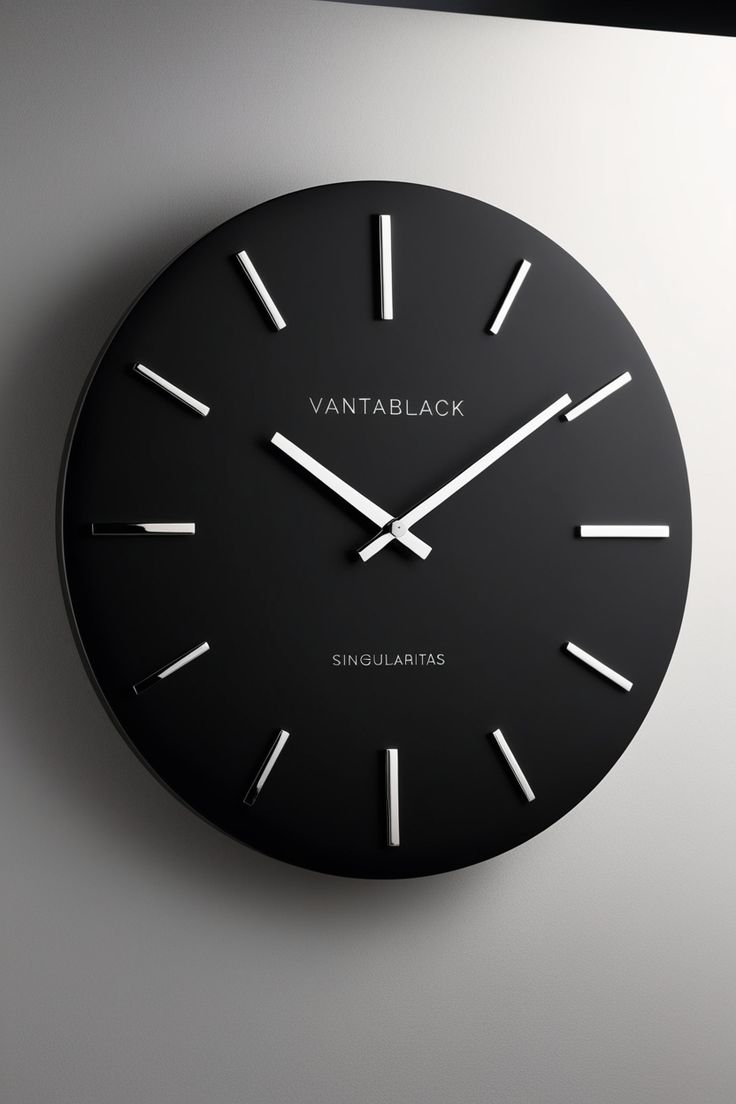clock: (36, 119, 717, 918)
